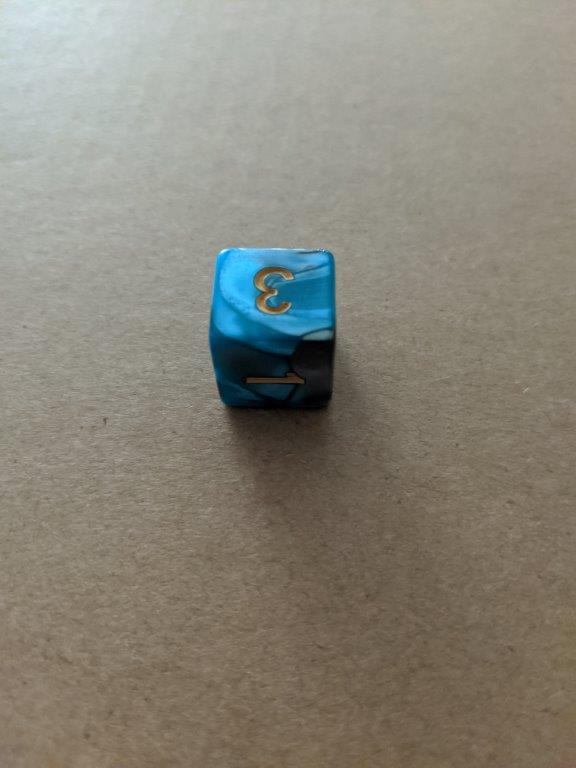d6-3: (206, 246, 338, 419)
